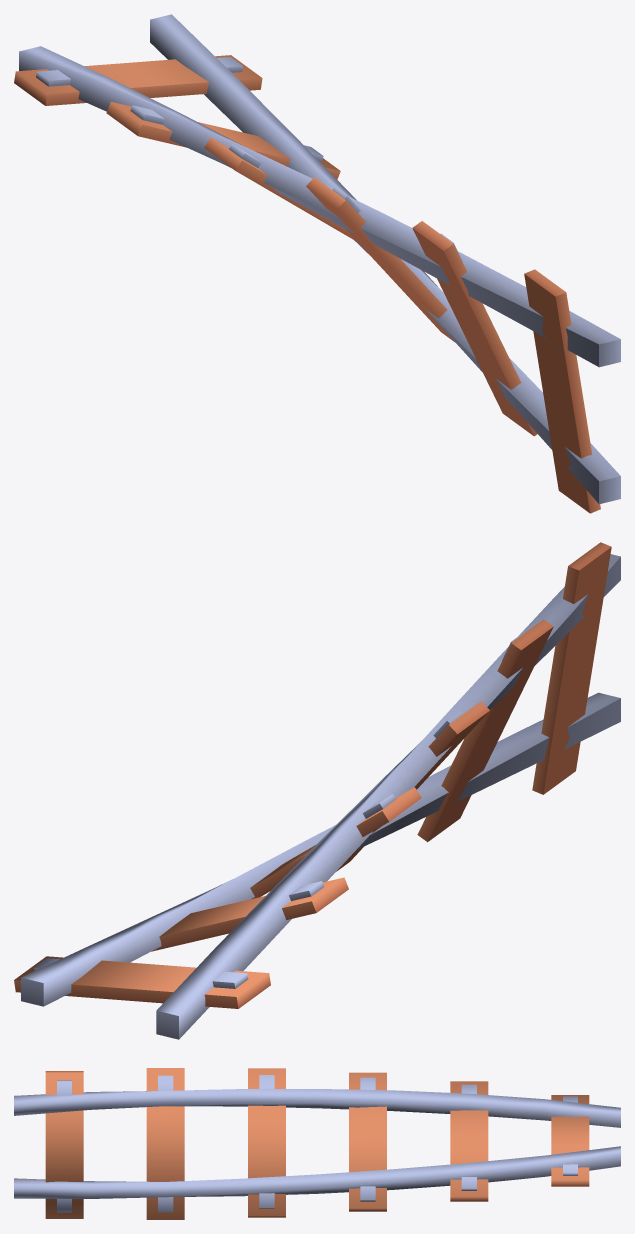
The model's file is railroad-straight-skew-left-side.glb.
3 renders of one model, top to bottom at view 1: azimuth 30°, elevation 25°; view 2: azimuth 150°, elevation 25°; view 3: azimuth 270°, elevation 25°, orthographic. The views are drawn at different scales.
Parts seen in each view (by area): view 1: railroad-straight-skew-left-side; view 2: railroad-straight-skew-left-side; view 3: railroad-straight-skew-left-side.
Boxes of the visible parts, x1,y1,x2,y2 form: railroad-straight-skew-left-side: (14,14,620,513); railroad-straight-skew-left-side: (14,542,620,1039); railroad-straight-skew-left-side: (14,1068,620,1219).
Bounding box in the file's own units: 0.9952 × 0.9952 × 4.
1 material, 1 textured.
